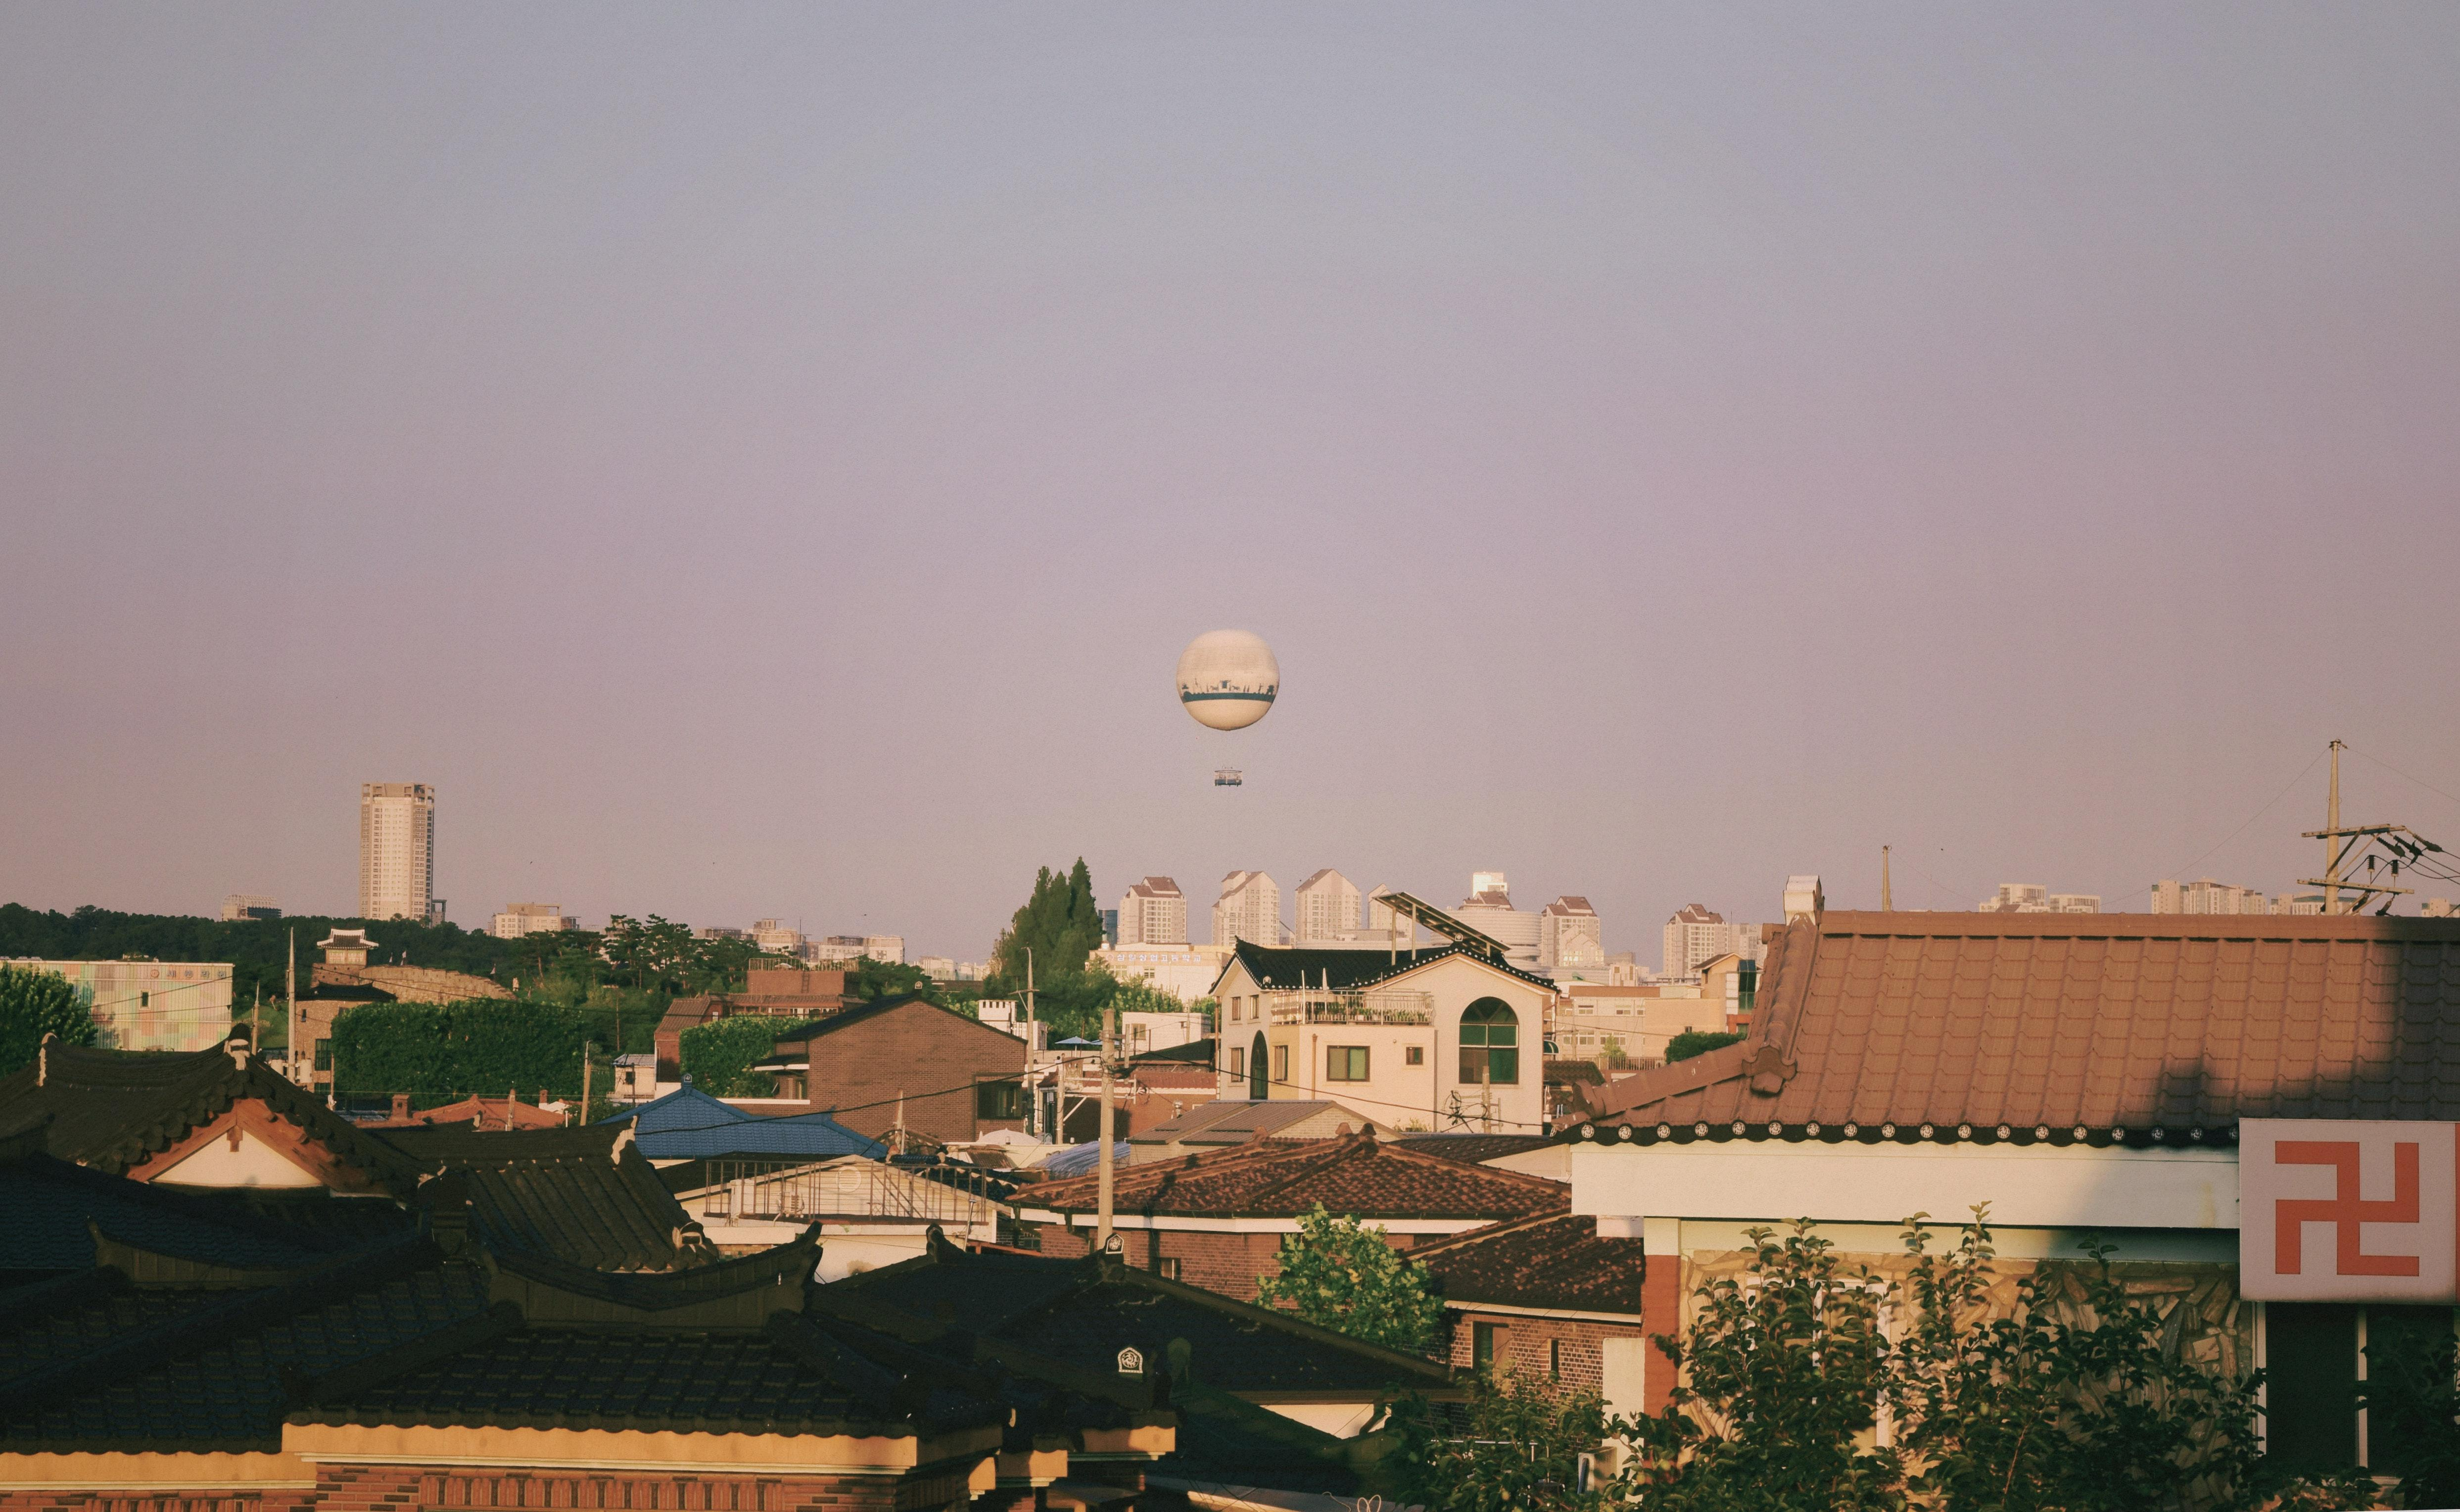hot air ballon: (1176, 626, 1281, 788)
